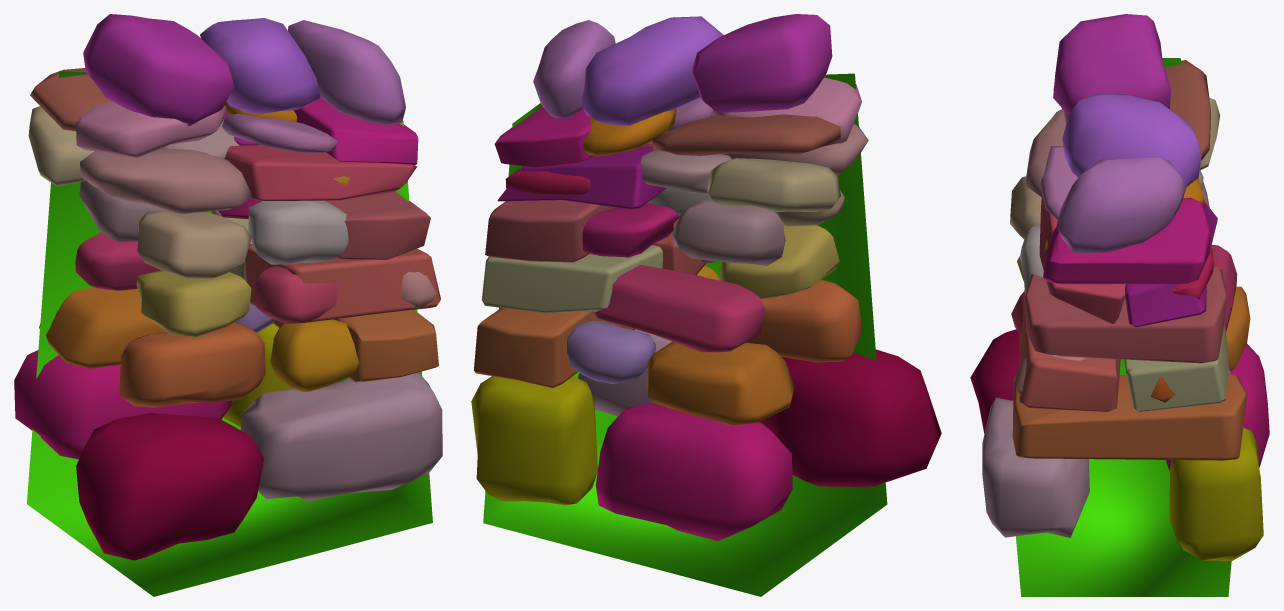
File: SM_Prop_wall_end_19.glb
3 views of the same model, side by side, from view 1: azimuth 30°, elevation 25°; view 2: azimuth 150°, elevation 25°; view 3: azimuth 270°, elevation 25° (orthographic). The views are drawn at different scales.
Parts seen in each view (by area): view 1: SM_Prop_wall_end_19; view 2: SM_Prop_wall_end_19; view 3: SM_Prop_wall_end_19.
Part boxes in pixels (left/top/right/bottom): SM_Prop_wall_end_19: left=14, top=14, right=442, bottom=596; SM_Prop_wall_end_19: left=471, top=14, right=941, bottom=596; SM_Prop_wall_end_19: left=970, top=14, right=1269, bottom=596.
Bounding box in the file's own units: 1.17 × 1.67 × 0.965.
